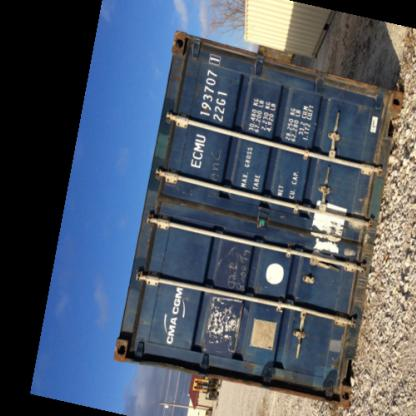Damage: (202, 292, 238, 356), (307, 200, 341, 264), (210, 244, 244, 288), (196, 144, 222, 187), (252, 47, 289, 76), (152, 192, 192, 214), (170, 32, 188, 59)
